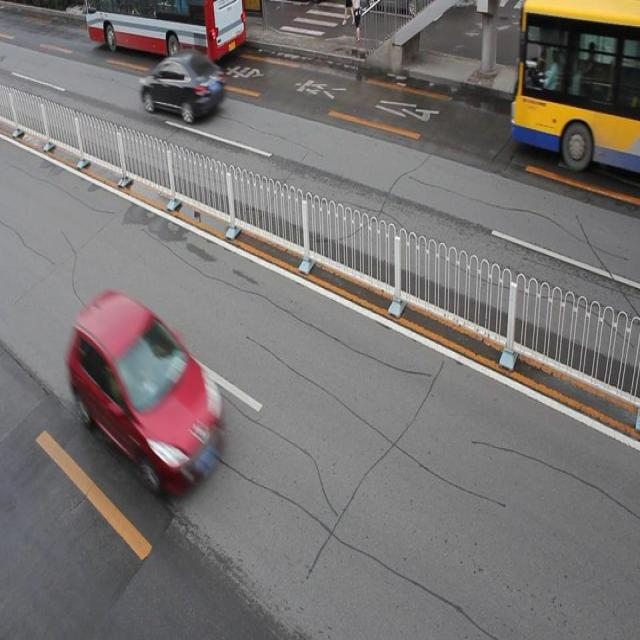car: (68, 291, 224, 492), (141, 48, 225, 121)
van: (510, 2, 640, 175), (88, 1, 247, 64)
